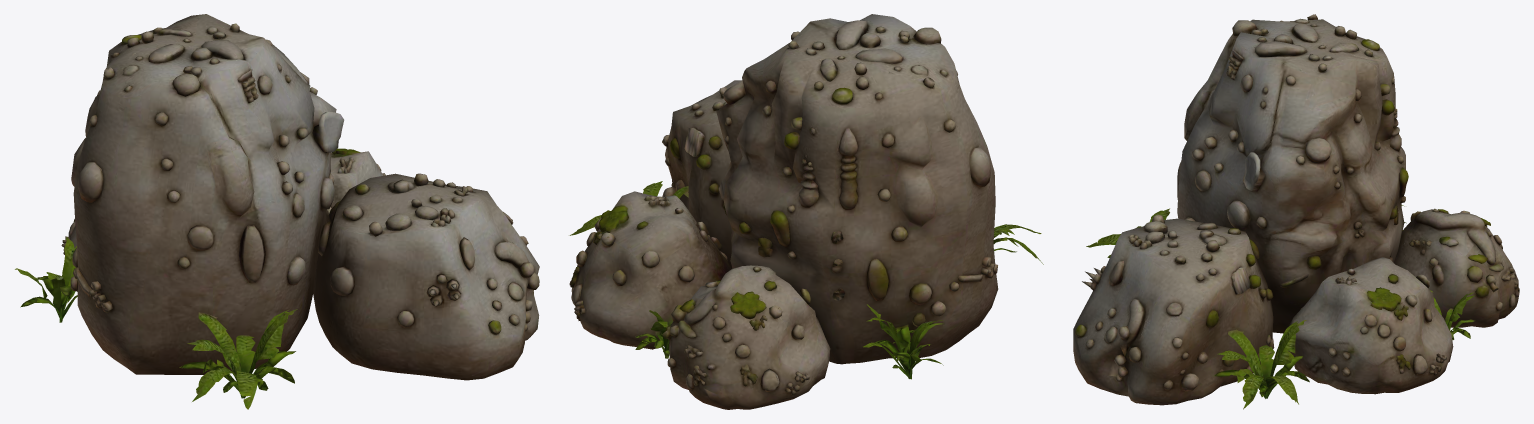
File: jun_boulder_cluster_mossy_a_LOD0.glb
The picture shows the model from 3 angles, left to right: view 1: azimuth 30°, elevation 25°; view 2: azimuth 150°, elevation 25°; view 3: azimuth 270°, elevation 25°; orthographic projection. The views are drawn at different scales.
Visible parts, largest first — view 1: tripo_node_2fa632b0-3145-4e0d-9542-0eff213807a1; view 2: tripo_node_2fa632b0-3145-4e0d-9542-0eff213807a1; view 3: tripo_node_2fa632b0-3145-4e0d-9542-0eff213807a1.
Part boxes in pixels (box(x1,y1,x2,y2)): tripo_node_2fa632b0-3145-4e0d-9542-0eff213807a1: box(15, 14, 539, 409); tripo_node_2fa632b0-3145-4e0d-9542-0eff213807a1: box(569, 14, 1043, 409); tripo_node_2fa632b0-3145-4e0d-9542-0eff213807a1: box(1073, 14, 1519, 409).
Size of the model in its own units: 0.9824 by 0.6426 by 0.998.
1 material, 1 textured.
